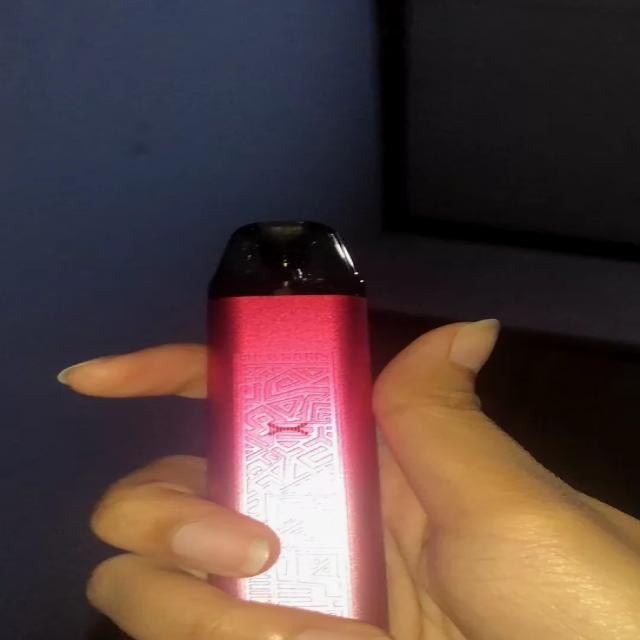Hazard: (202, 214, 392, 629)
